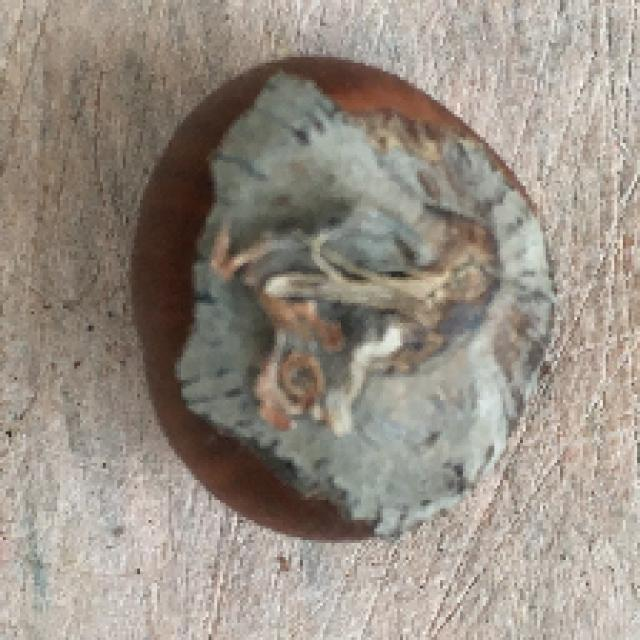qualityHazelnut: (121, 47, 564, 564)
